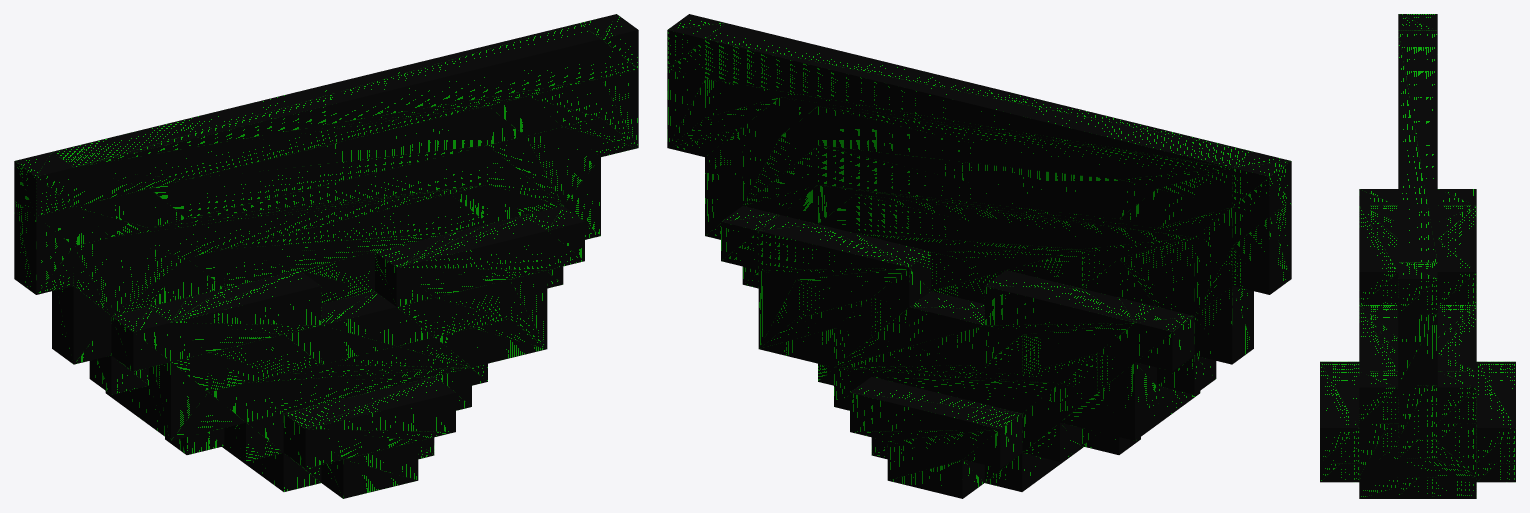
File: Watermelon.obj
3 views of the same model, side by side, from view 1: azimuth 30°, elevation 25°; view 2: azimuth 150°, elevation 25°; view 3: azimuth 270°, elevation 25° (orthographic). The views are drawn at different scales.
Visible parts, largest first — view 1: Watermelon; view 2: Watermelon; view 3: Watermelon.
Boxes of the visible parts, left/top/right/bottom form: Watermelon: left=14, top=14, right=638, bottom=498; Watermelon: left=667, top=14, right=1291, bottom=498; Watermelon: left=1320, top=14, right=1515, bottom=498.
Bounding box in the file's own units: 1.6 × 0.9 × 0.5.
